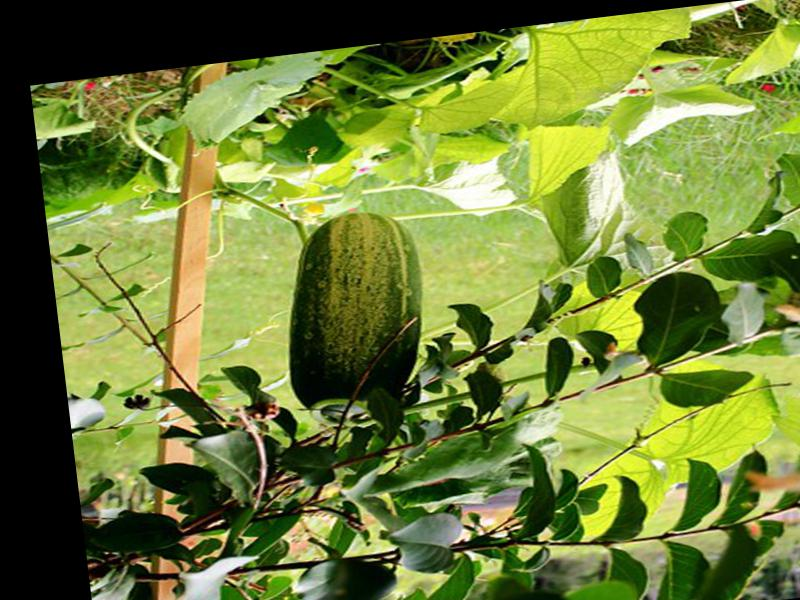Cucumber: (269, 205, 434, 433)
